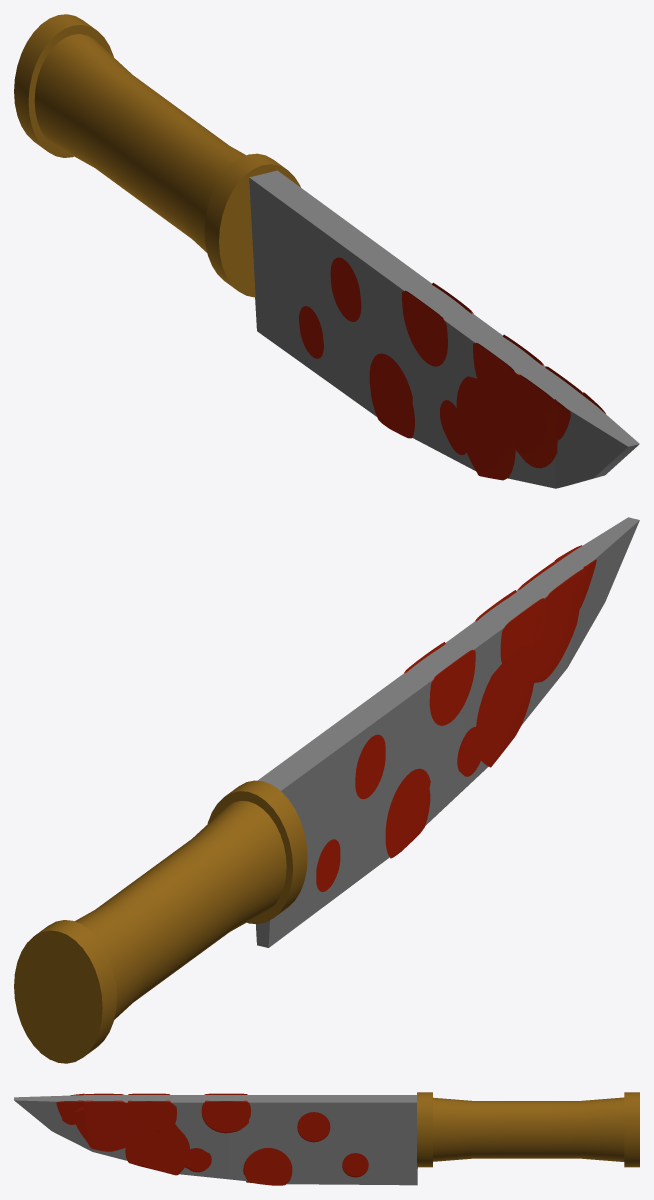
The model's file is knife.fbx.
3 views of the same model, one above another, from view 1: azimuth 30°, elevation 25°; view 2: azimuth 150°, elevation 25°; view 3: azimuth 270°, elevation 25° (orthographic). The views are drawn at different scales.
Visible parts, largest first — view 1: Blade, Handle, Blood; view 2: Handle, Blade, Blood; view 3: Blade, Handle, Blood.
Boxes of the visible parts, box(x1,y1,x2,y2) form: Blade: box(249, 170, 639, 488); Handle: box(14, 14, 300, 297); Blood: box(299, 257, 605, 480); Handle: box(14, 780, 307, 1063); Blade: box(255, 517, 639, 947); Blood: box(316, 545, 596, 891); Blade: box(14, 1095, 417, 1185); Handle: box(417, 1092, 639, 1167); Blood: box(56, 1093, 368, 1185).
Bounding box in the file's own units: 27.14 × 48.56 × 305.
